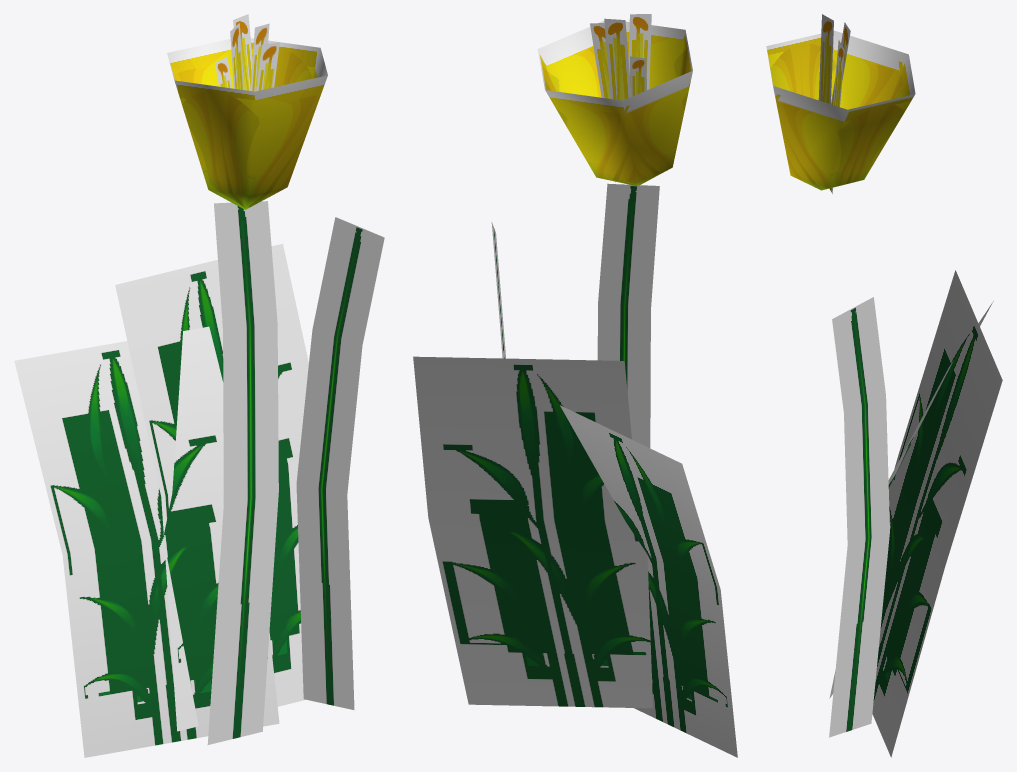
File: Flower_06a.FBX
3 views of the same model, side by side, from view 1: azimuth 30°, elevation 25°; view 2: azimuth 150°, elevation 25°; view 3: azimuth 270°, elevation 25° (orthographic). The views are drawn at different scales.
Visible parts, largest first — view 1: Flower_06a; view 2: Flower_06a; view 3: Flower_06a.
Boxes of the visible parts, x1=… form: Flower_06a: x1=14, y1=14, x2=384, y2=757; Flower_06a: x1=413, y1=14, x2=737, y2=757; Flower_06a: x1=766, y1=14, x2=1002, y2=757.
Size of the model in its own units: 15.79 by 37.86 by 12.01.
Materials: 1 (1 with a texture image).
